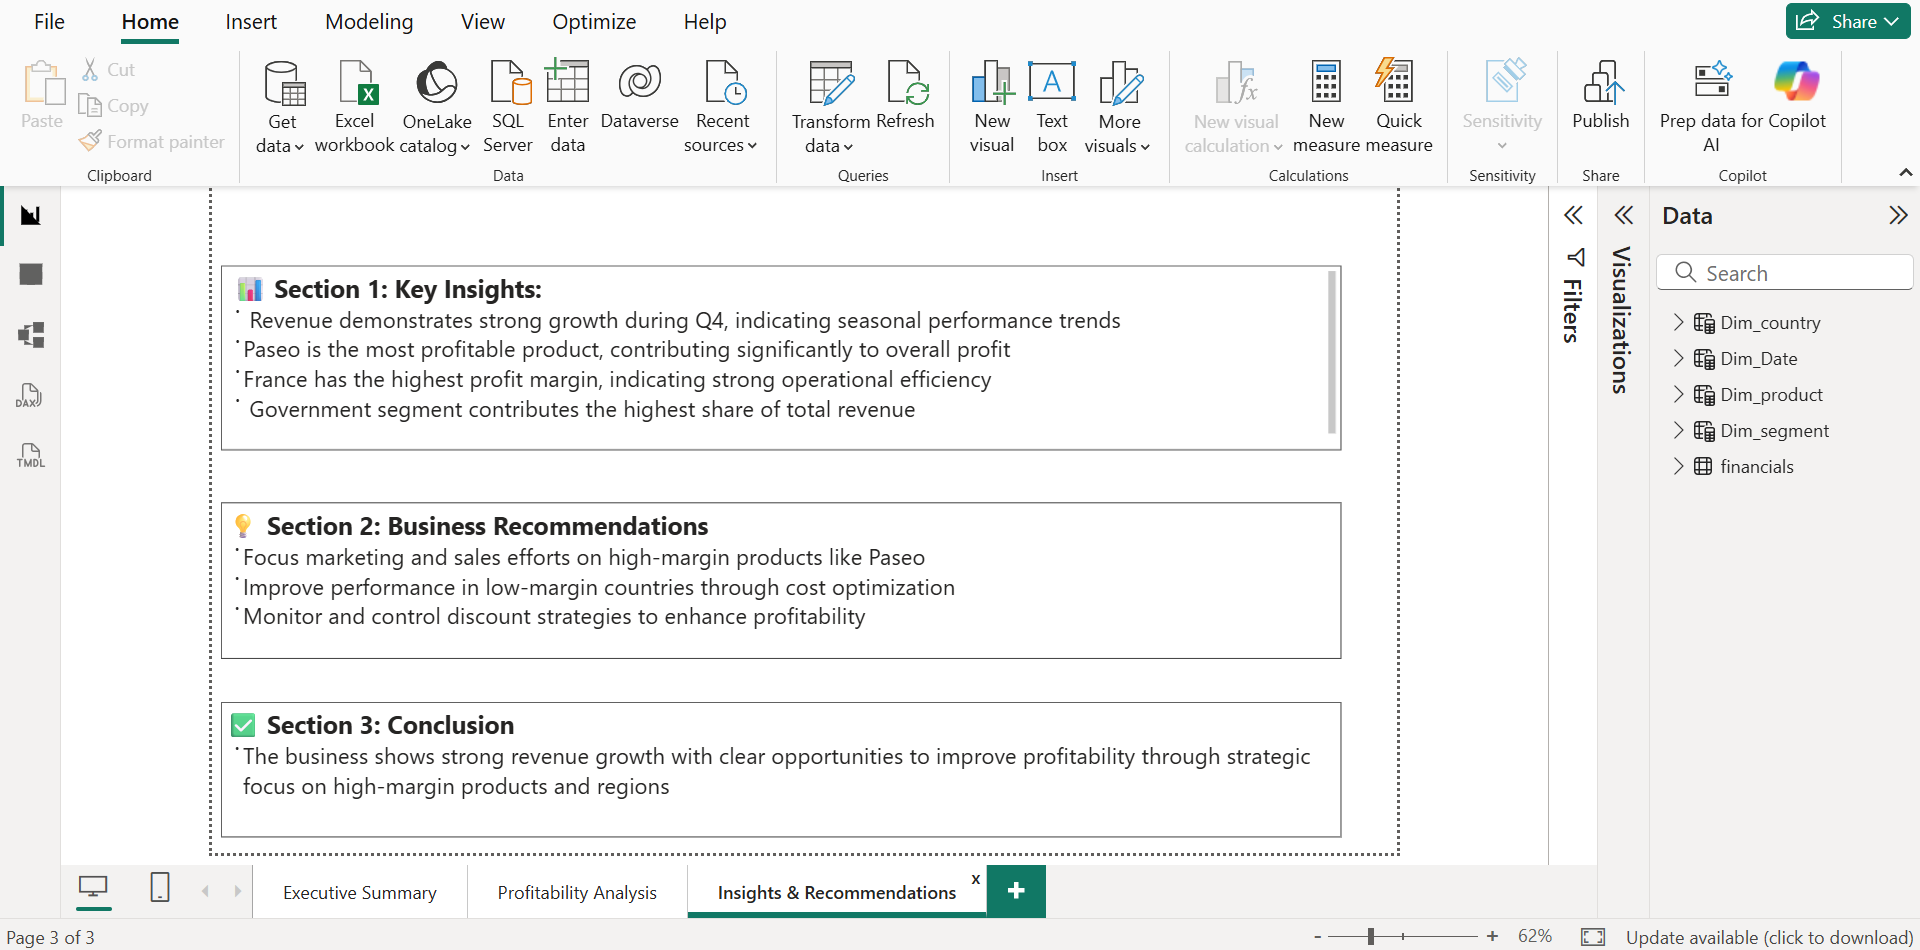

The dashboard page shown, as its layout file describes it:
{"tool":"powerbi","page":{"name":"Insights & Recommendations","canvas":[1280,720],"ordinal":2},"visuals":[{"type":"textbox","box":[9.7,85.8,1209.6,199.2],"z":0},{"type":"textbox","box":[9.7,341.7,1209.6,168.4],"z":1},{"type":"textbox","box":[9.7,557,1209.6,145.7],"z":2}]}

Visuals, with their boxes on the page's 1280x720 design canvas (x1, y1, x2, y2). These are canvas units, not pixel positions in the 1920x950 screenshot, which may show the page scaled, cropped or inside an application window:
textbox: <bbox>10, 86, 1219, 285</bbox>
textbox: <bbox>10, 342, 1219, 510</bbox>
textbox: <bbox>10, 557, 1219, 703</bbox>
